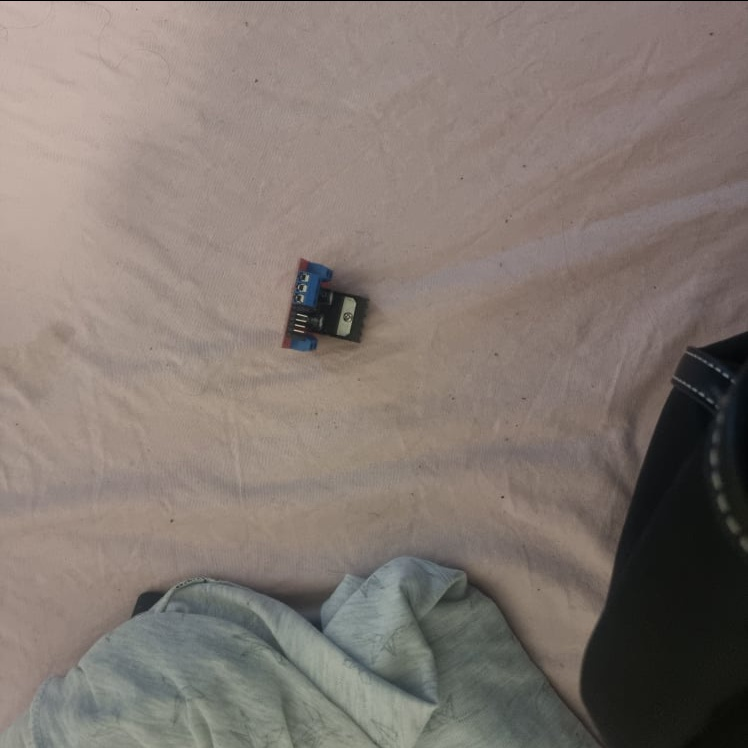MOTOR: (277, 256, 370, 358)
